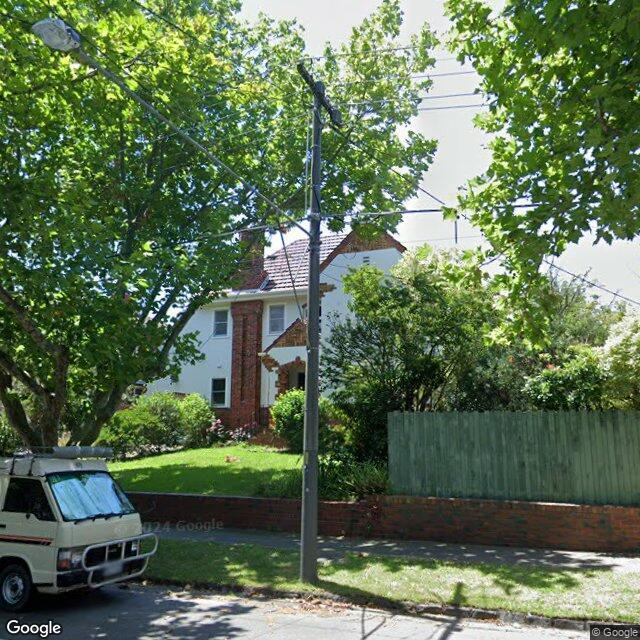concrete-pole: (302, 82, 324, 584)
crossarm: (297, 64, 339, 126)
streetlight: (31, 18, 314, 244)
